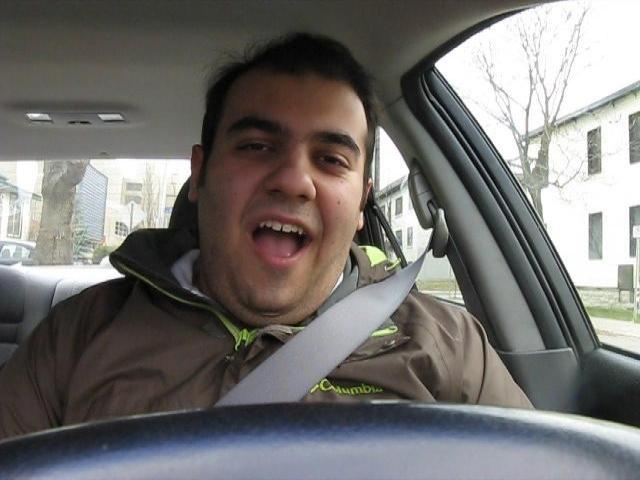eye_open: (310, 148, 354, 174), (232, 136, 279, 159)
face: (216, 102, 366, 316)
mouth_open: (241, 214, 320, 270)
